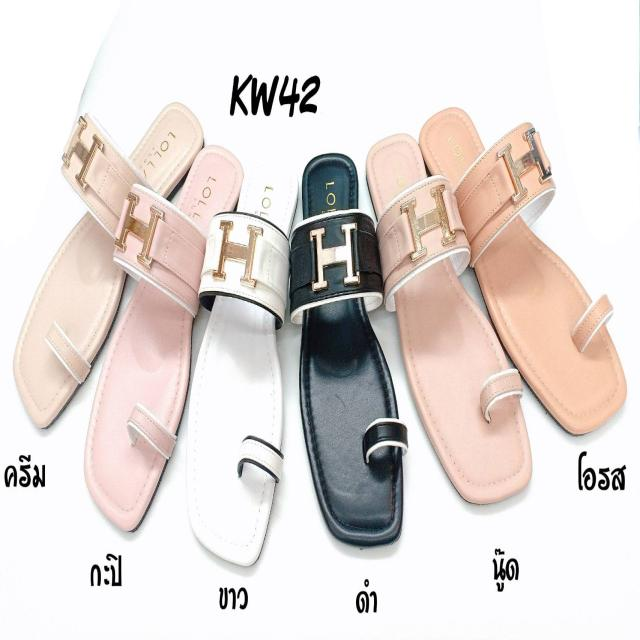black: (300, 154, 405, 549)
cream: (16, 103, 201, 420)
kapi: (86, 146, 241, 532)
nood: (368, 130, 532, 505)
orot: (418, 103, 623, 434)
white: (188, 160, 298, 570)
